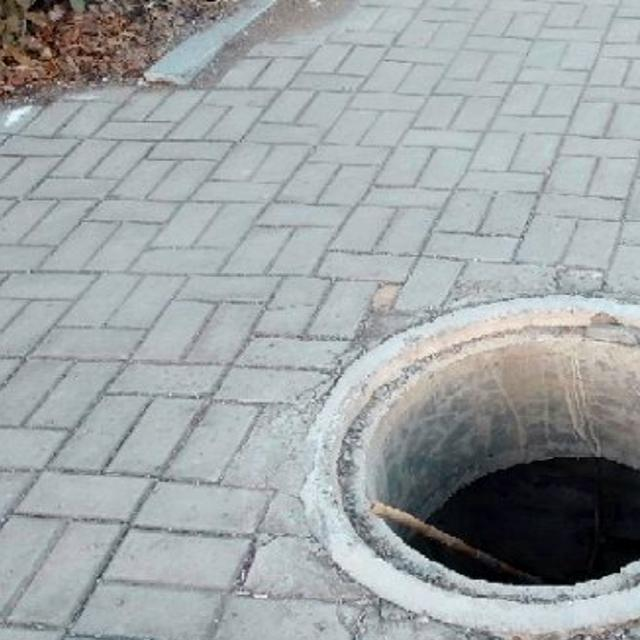lose: (307, 291, 640, 602)
